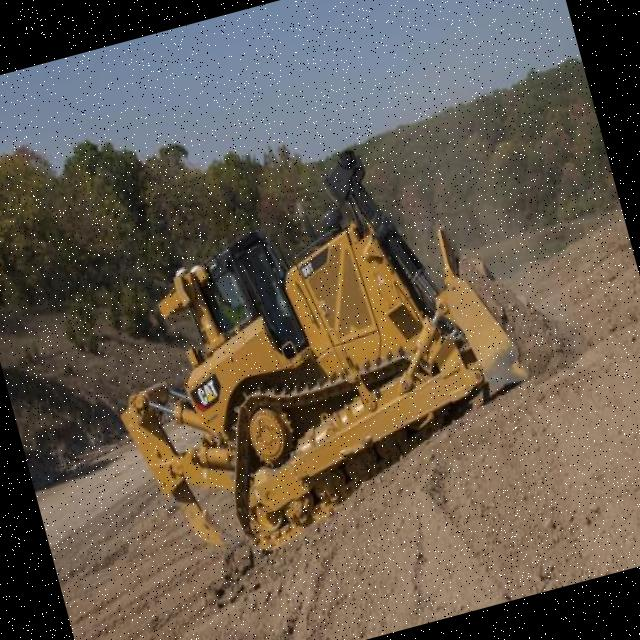Bulldozer: (20, 79, 640, 640)
